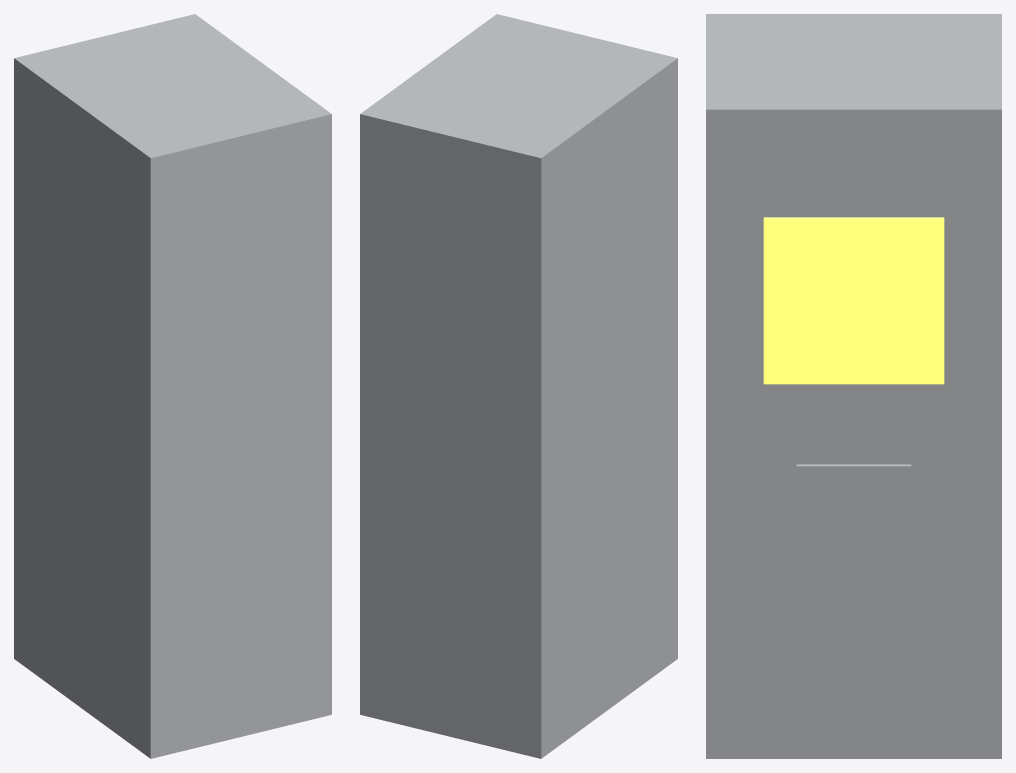
File: ticket_machine.glb
The picture shows the model from 3 angles, left to right: view 1: azimuth 30°, elevation 25°; view 2: azimuth 150°, elevation 25°; view 3: azimuth 270°, elevation 25°; orthographic projection. The views are drawn at different scales.
Parts seen in each view (by area): view 1: ticket_machine; view 2: ticket_machine; view 3: ticket_machine.
Boxes of the visible parts, x1,y1,x2,y2 form: ticket_machine: (14,14,331,758); ticket_machine: (360,14,677,758); ticket_machine: (706,14,1001,758).
Size of the model in its own units: 0.059 by 0.18 by 0.0743.
